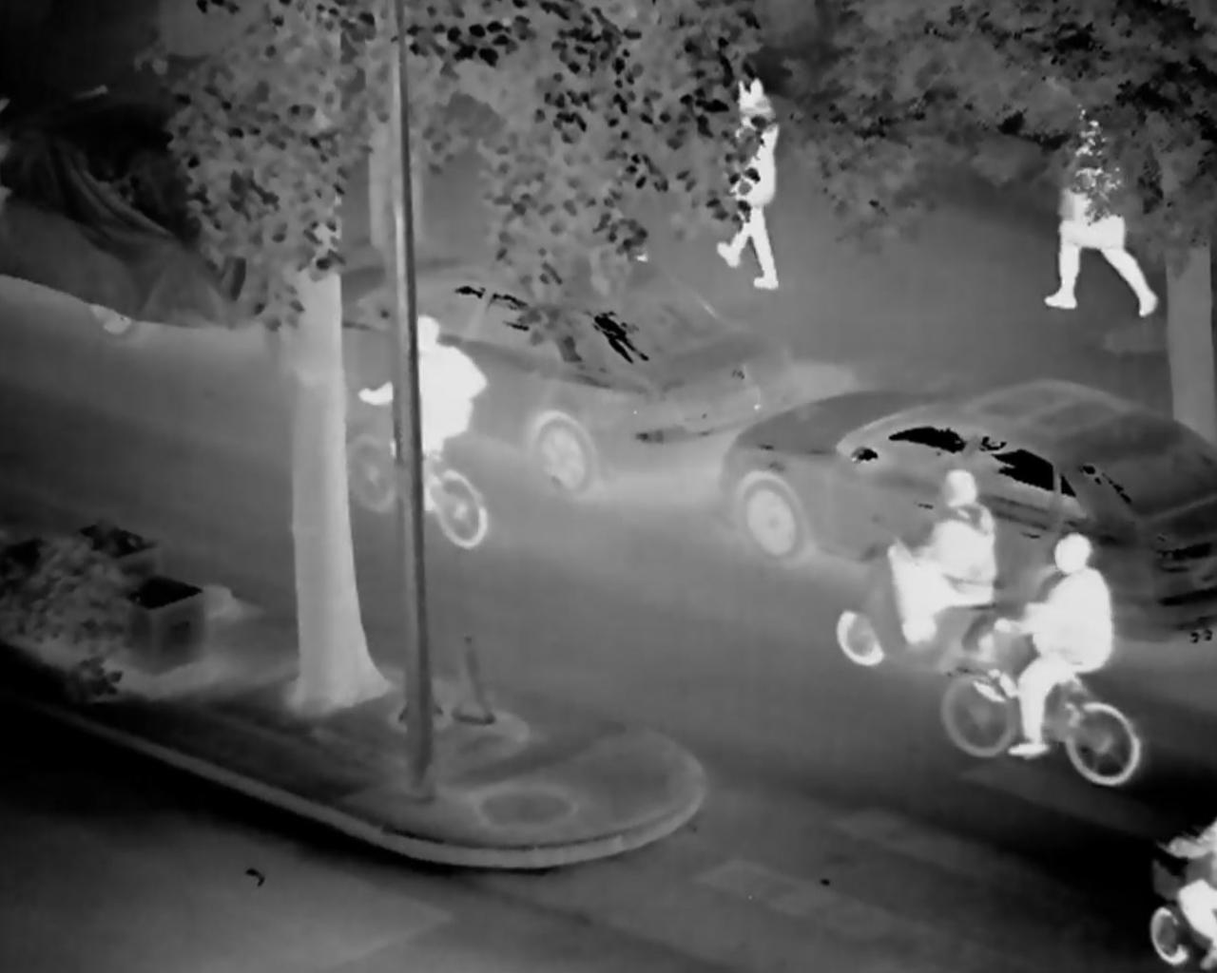person: (833, 460, 997, 681), (352, 301, 491, 532), (999, 526, 1122, 783), (1038, 95, 1161, 332), (719, 72, 791, 298)
